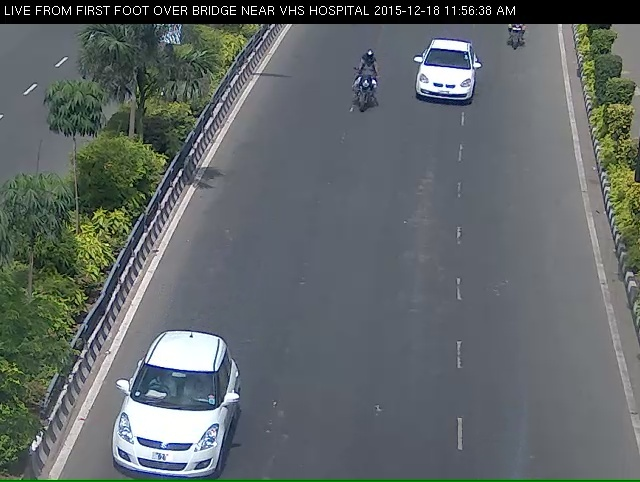Car: (101, 353, 227, 479), (413, 42, 475, 118)
Person: (350, 50, 375, 127), (499, 21, 534, 63)
